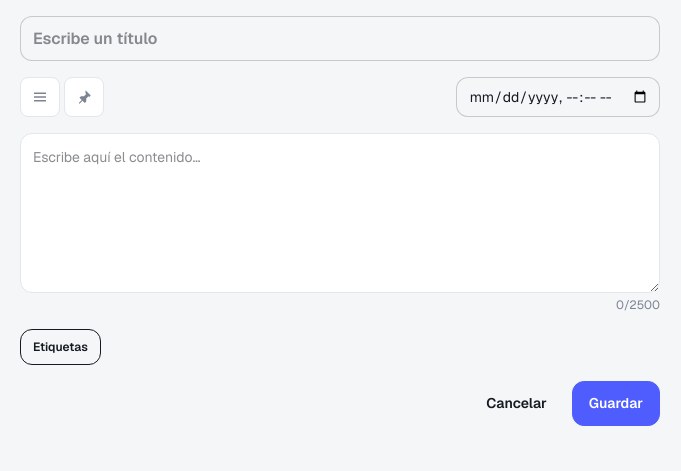
Test: NoteEditor › bloquea el guardado sin título cuando hay datos (RF-21)
The width and height of the screenshot is (681, 471).
Type "algo" into the text box named "Nota" at (340, 213), box [20,133,660,293]
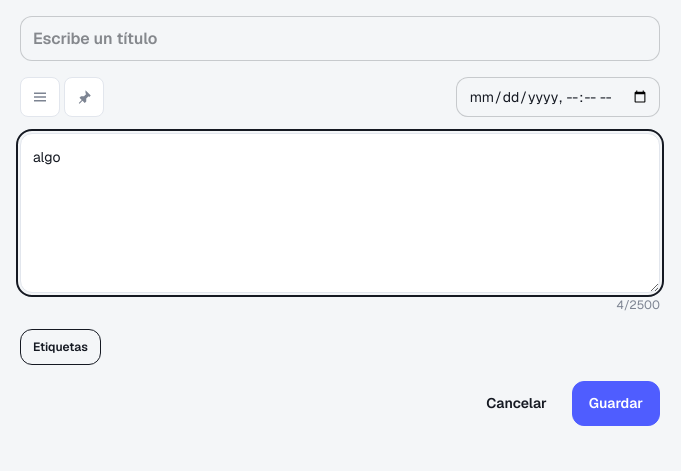
Click the button "Guardar" at (616, 404), box [572,381,660,426]
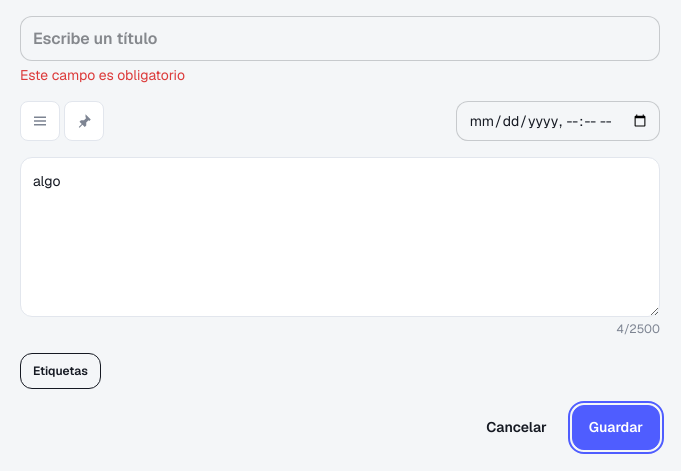
Expected: the text "Este campo es obligatorio" is shown, [20,66,185,84]
